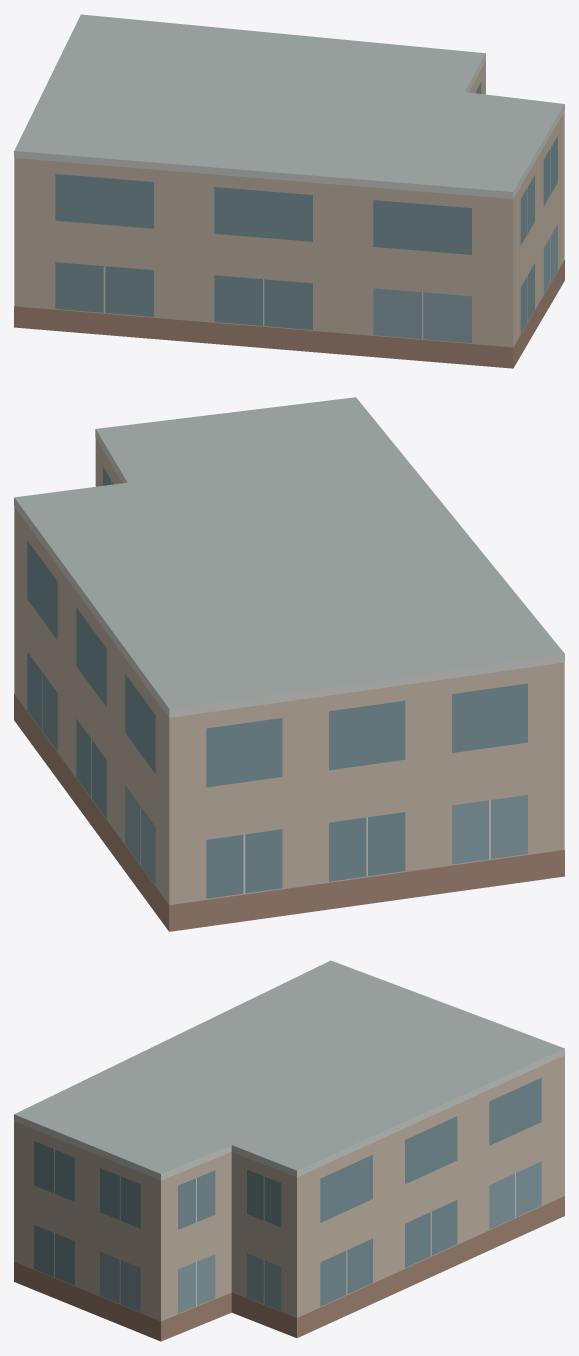
The model's file is survey-upis-32891141.glb.
3 renders of one model, top to bottom at view 1: azimuth 30°, elevation 25°; view 2: azimuth 150°, elevation 25°; view 3: azimuth 270°, elevation 25°, orthographic. The views are drawn at different scales.
Parts seen in each view (by area): view 1: survey-upis-32891141.tmp; view 2: survey-upis-32891141.tmp; view 3: survey-upis-32891141.tmp.
Part boxes in pixels (x1,y1,x2,y2): survey-upis-32891141.tmp: (14, 14, 564, 368); survey-upis-32891141.tmp: (14, 397, 564, 931); survey-upis-32891141.tmp: (14, 960, 564, 1341).
Bounding box in the file's own units: 16.69 × 6.1 × 18.19.
